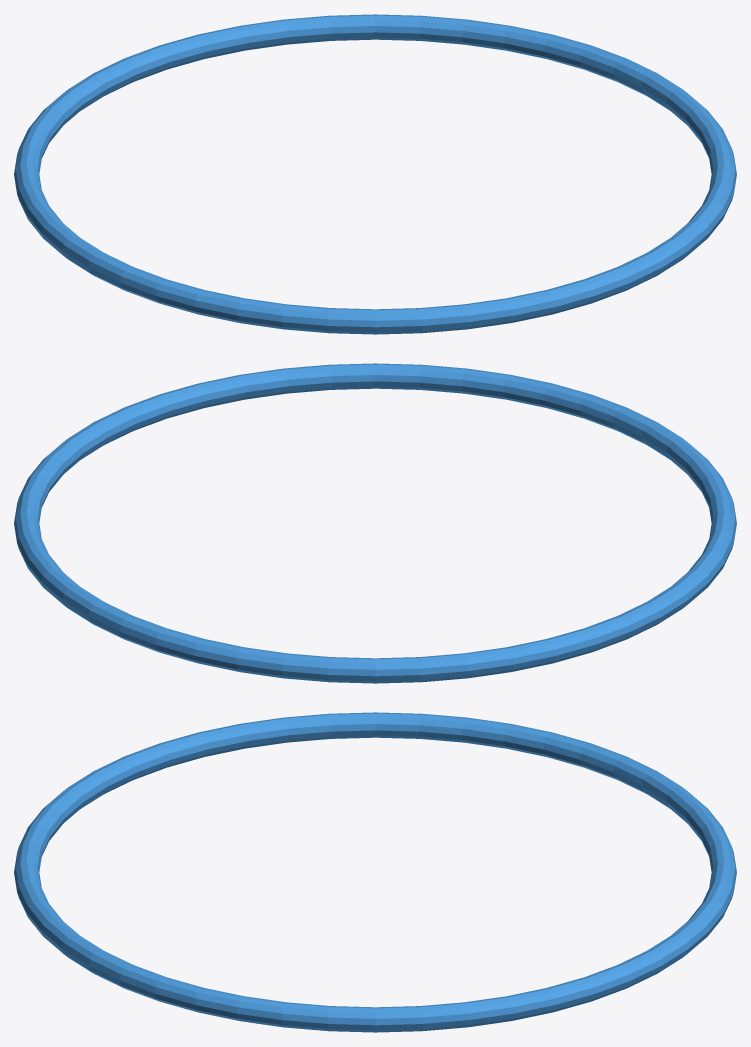
3 views of the same model, one above another, from view 1: azimuth 30°, elevation 25°; view 2: azimuth 150°, elevation 25°; view 3: azimuth 270°, elevation 25° (orthographic).
Parts seen in each view (by area): view 1: Torus.001; view 2: Torus.001; view 3: Torus.001.
Part boxes in pixels (x1,y1,x2,y2): Torus.001: (14, 14, 736, 334); Torus.001: (14, 363, 736, 683); Torus.001: (14, 712, 736, 1032).
Size of the model in its own units: 2.28 by 2.28 by 0.08.
